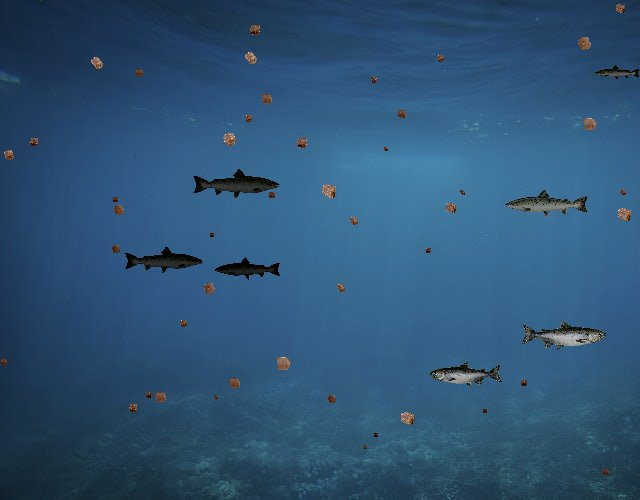Fish: (191, 167, 281, 199), (504, 188, 590, 219), (520, 320, 606, 351), (124, 245, 205, 274), (430, 361, 503, 388), (214, 256, 282, 281), (594, 64, 640, 81)
Pellet: (243, 19, 266, 41), (0, 144, 20, 166), (344, 212, 363, 231), (392, 105, 410, 123), (422, 244, 435, 257), (109, 194, 121, 206), (210, 392, 220, 402)
